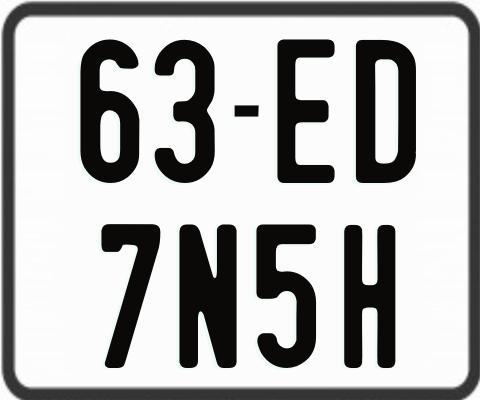3: (153, 38, 214, 184)
5: (253, 224, 314, 370)
6: (79, 38, 139, 186)
7: (98, 222, 162, 371)
D: (354, 37, 419, 182)
E: (275, 37, 339, 182)
H: (342, 224, 399, 373)
N: (176, 224, 239, 374)
